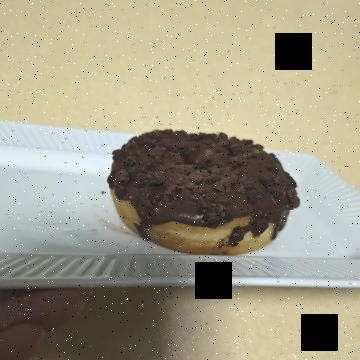doughnut: (112, 52, 262, 280)
